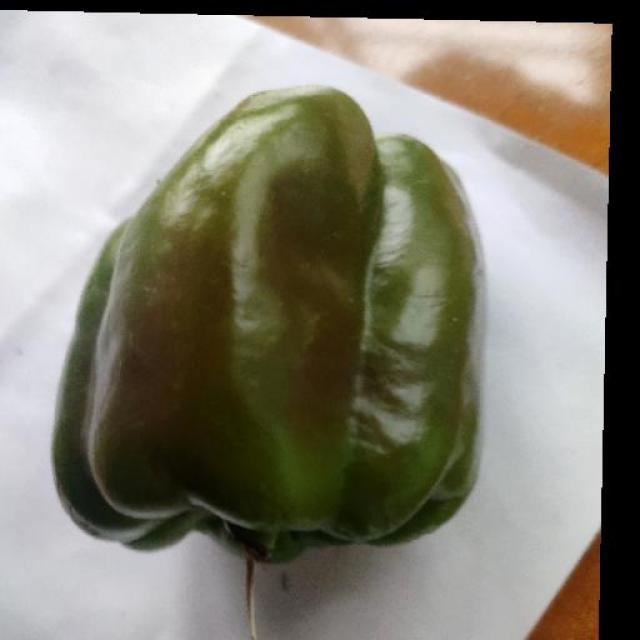Stale_Capsicum: (61, 106, 496, 573)
